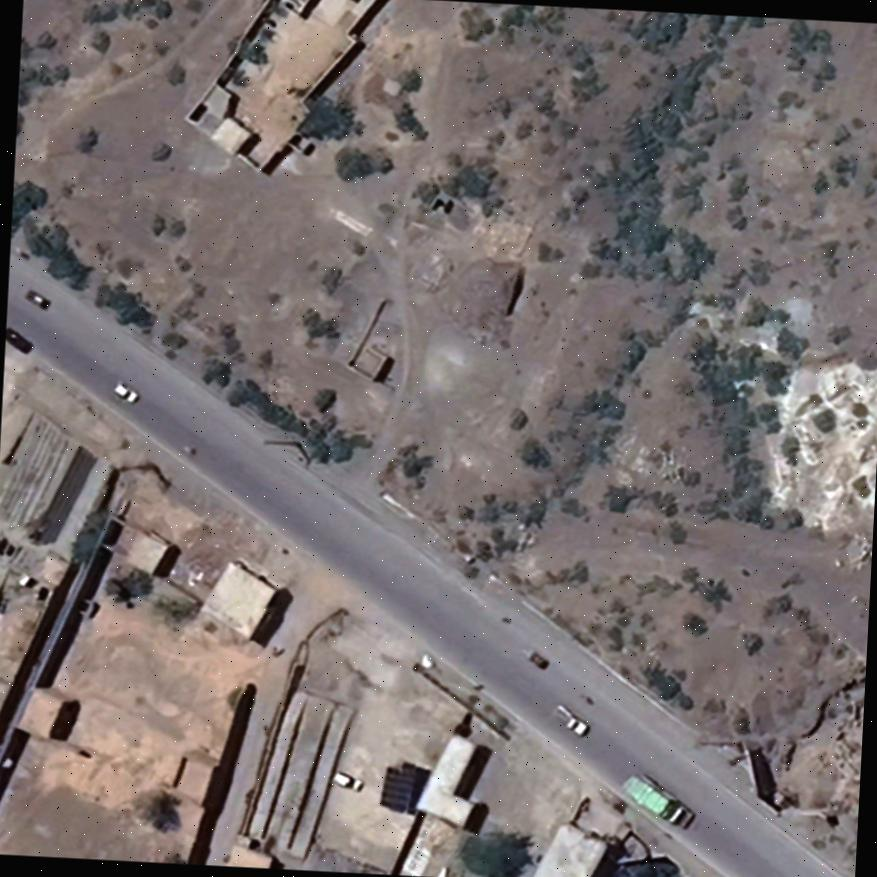Solarpanel: (372, 759, 423, 816)
